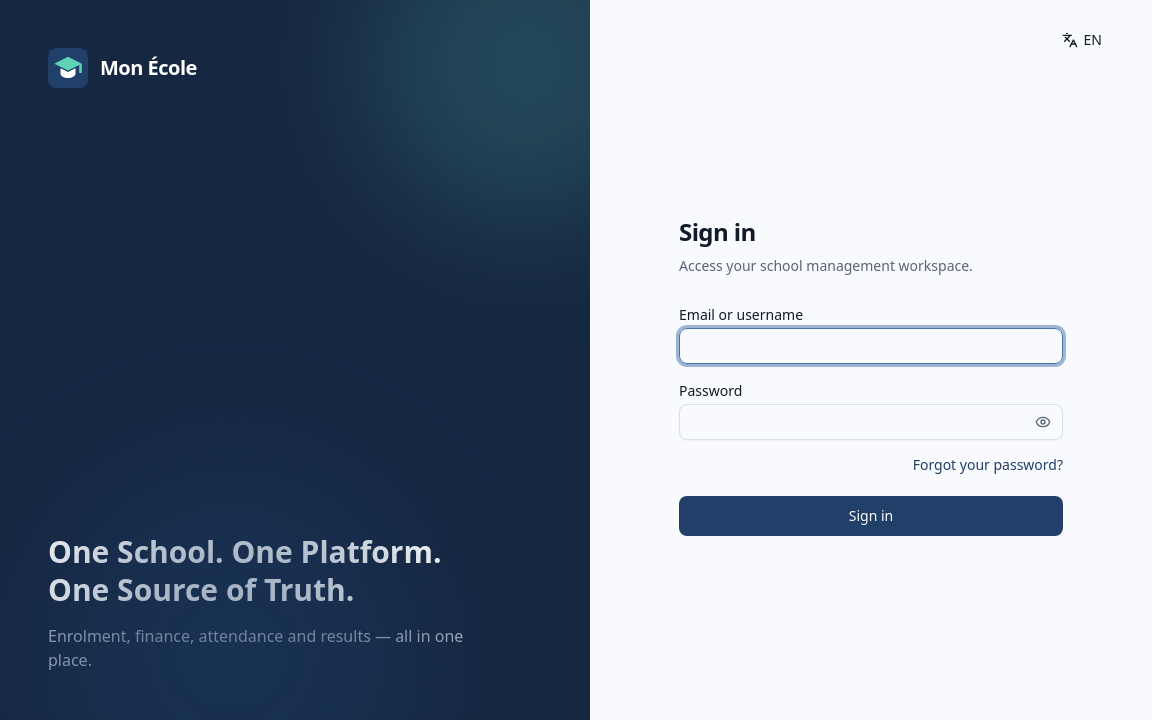
LoginPage › explains wrong credentials
In the field labelled "Email or username": (871, 346) [679, 328, 1063, 364], type "awa"
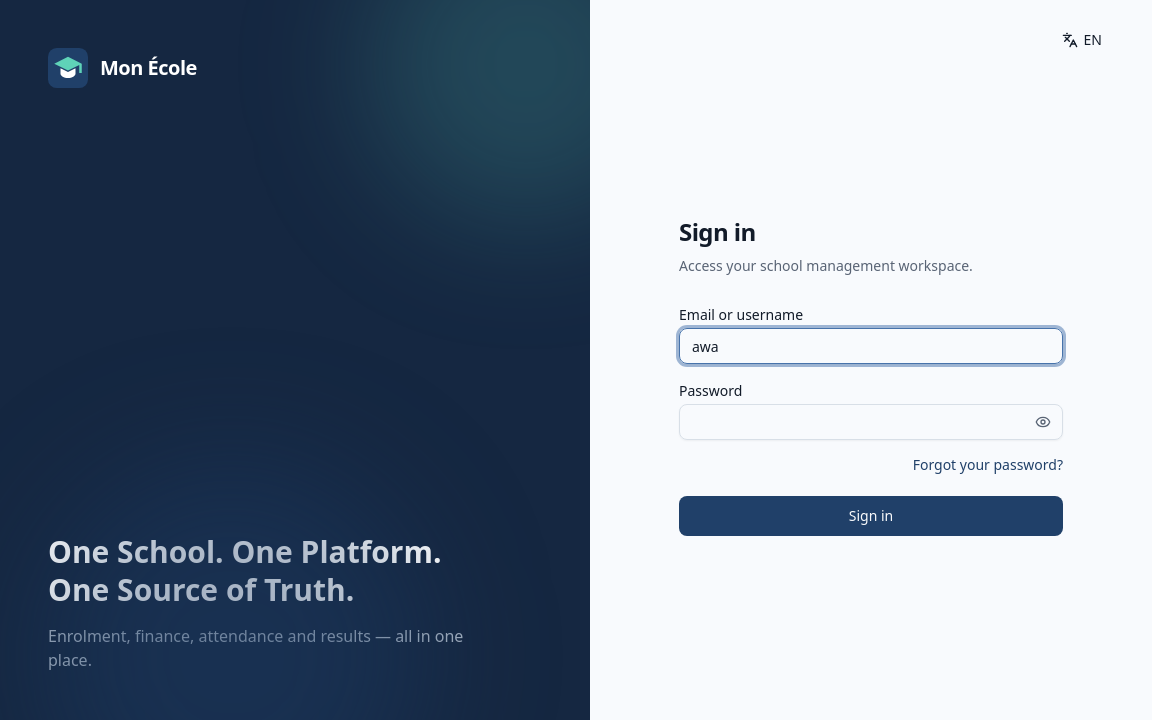
In the password field labelled "Password": (871, 422) [679, 404, 1063, 440], type "wrong"
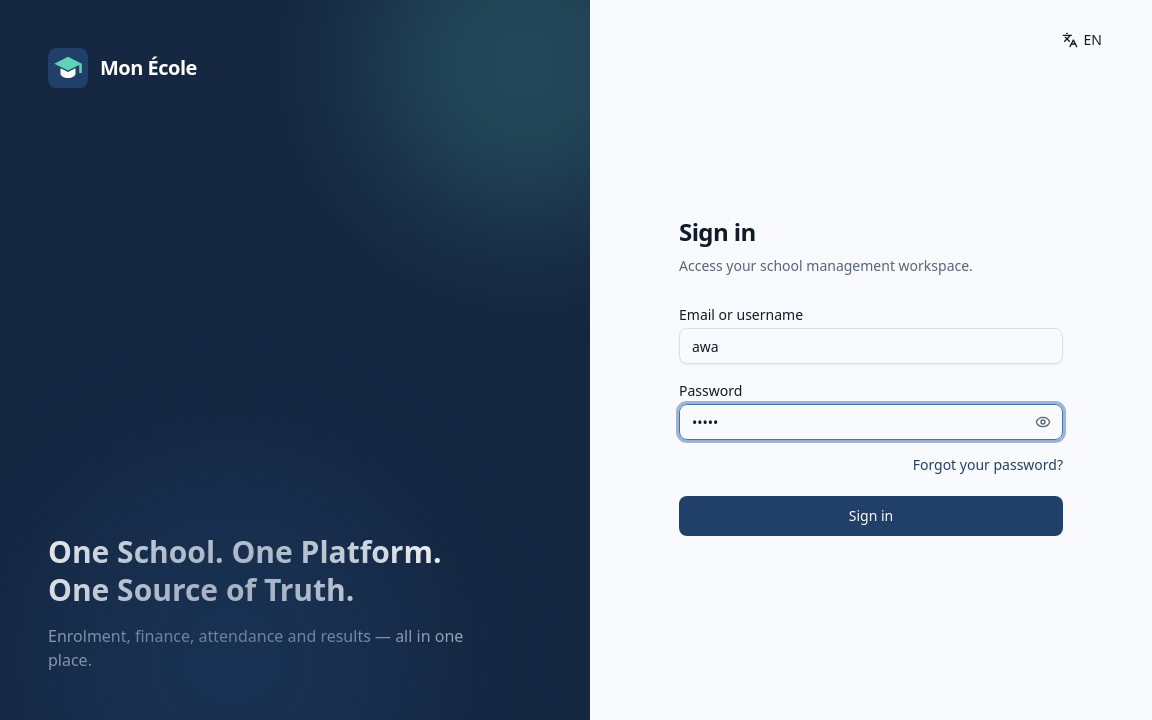
Click the button "Sign in": (871, 516) [679, 496, 1063, 536]
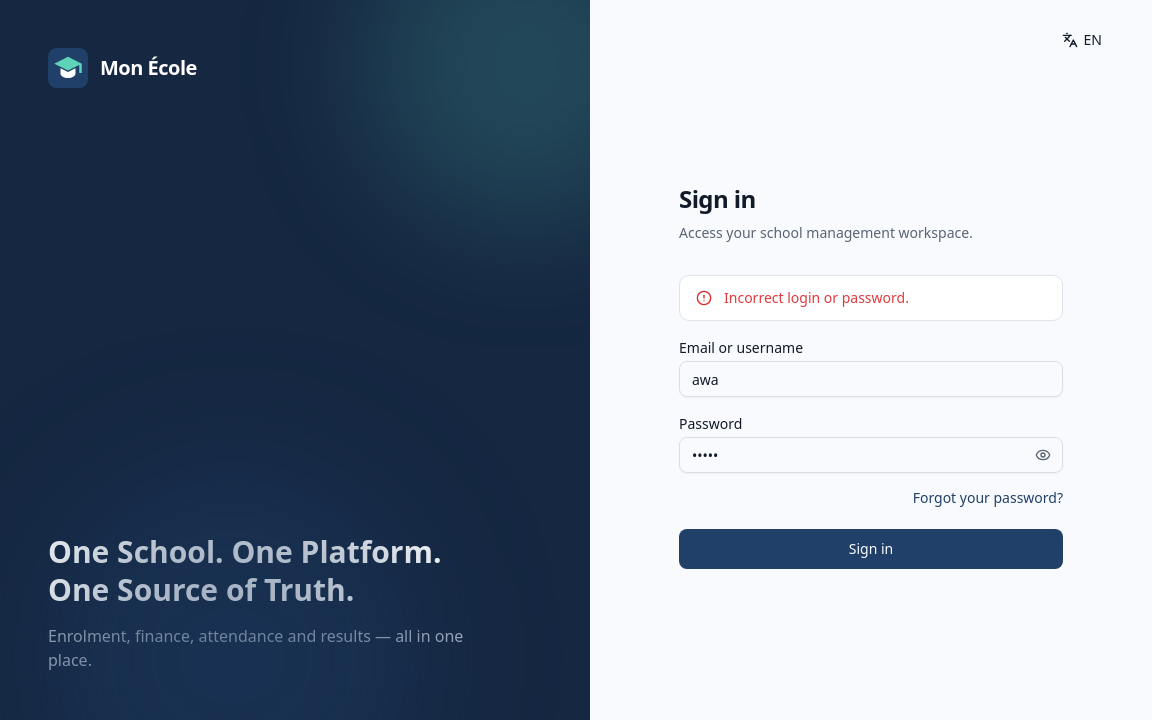
expect the text "Incorrect login or password." is shown: met, box [724, 288, 909, 307]
